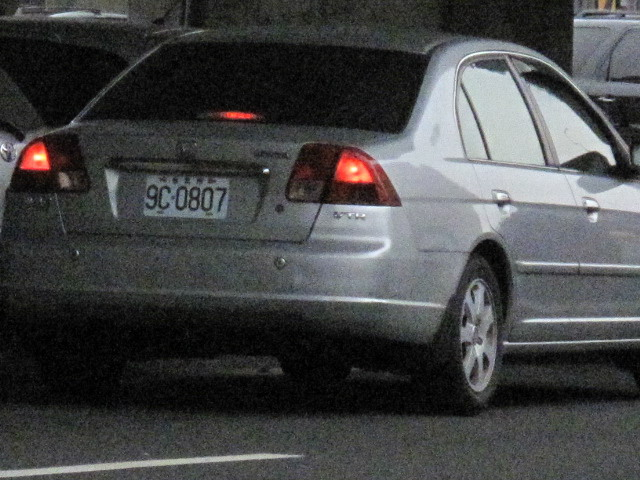plate: (140, 169, 231, 224)
